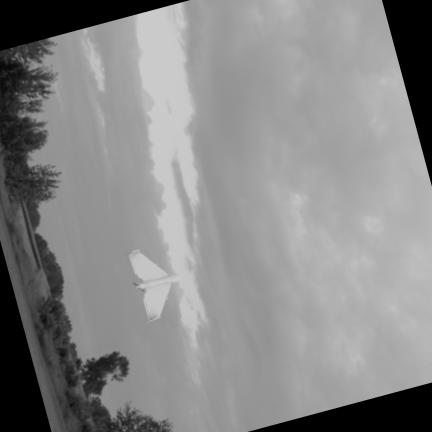Shahed: (121, 249, 182, 323)
